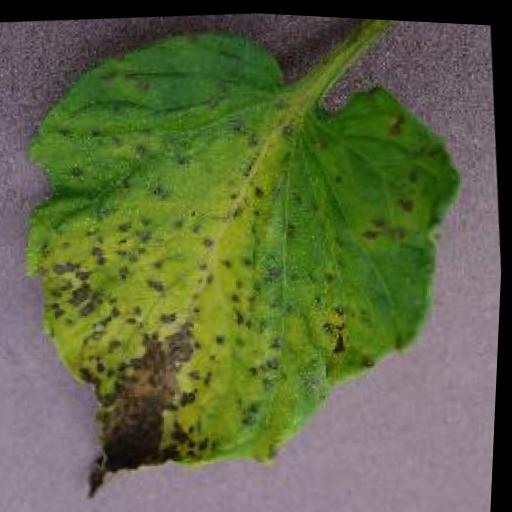Septoria: (2, 1, 485, 510)
